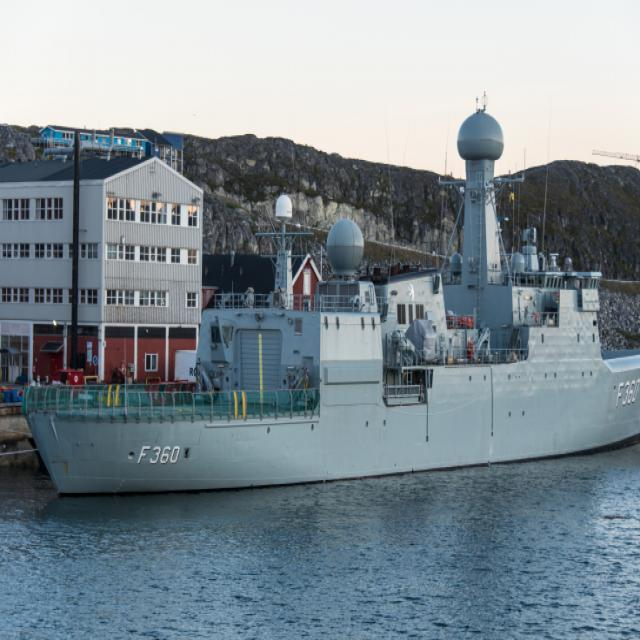Fragata: (12, 98, 640, 502)
